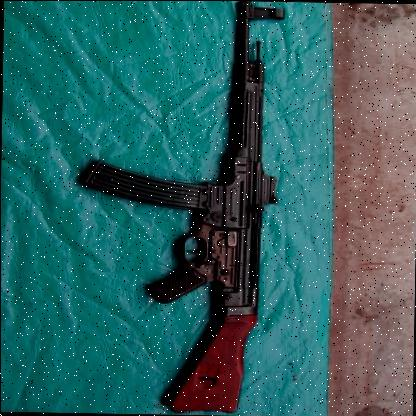rifle: (75, 0, 303, 412)
